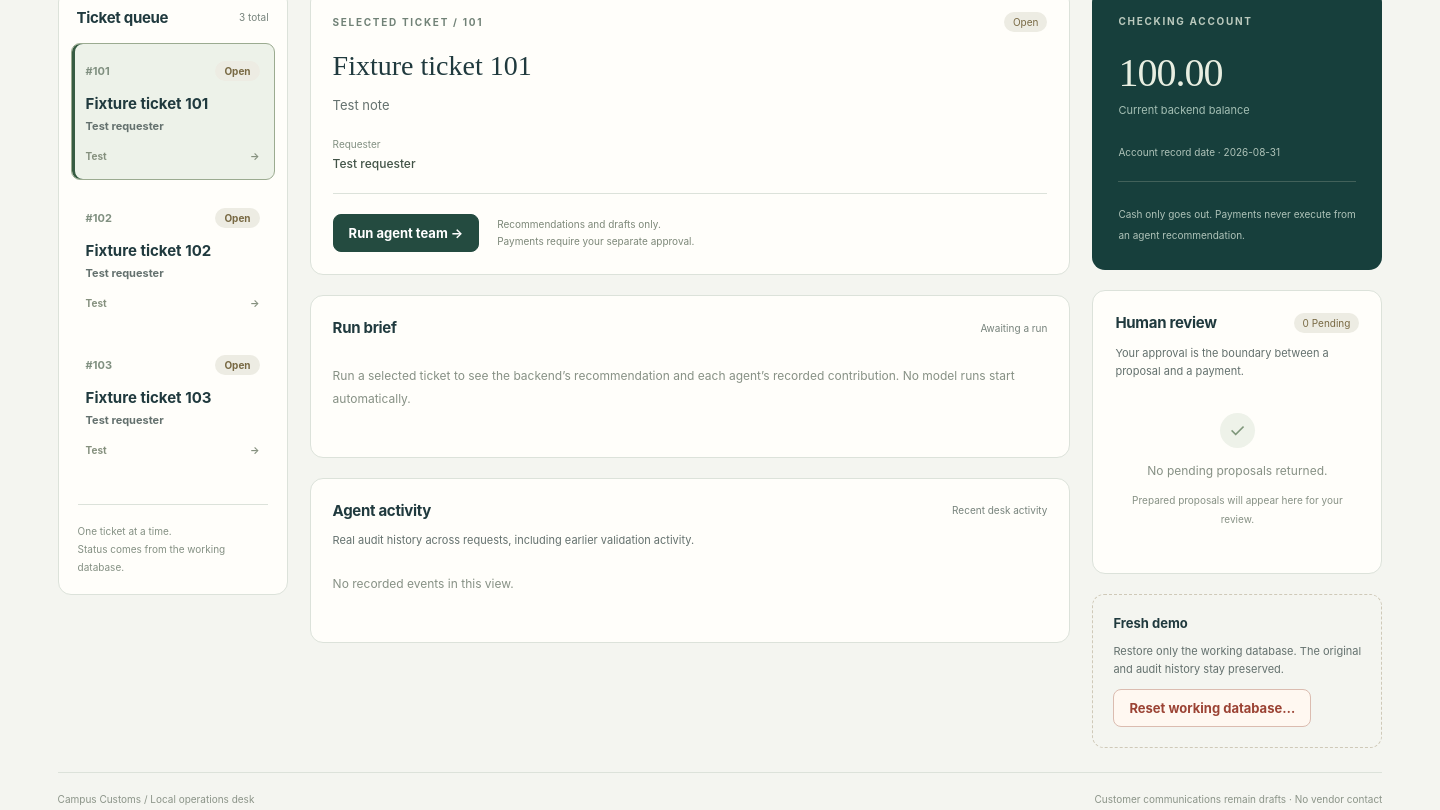
Scenario: operations desk › loads tickets and cash, selects a ticket, runs only on human click and displays actual summary/events
This screenshot has width=1440, height=810.
(page scrolled)
Expected: the text "100.00" is shown, left=1118, top=50, right=1222, bottom=95
Click the button "#103 open Fixture ticket 103 Test requester test →": (173,406) left=71, top=337, right=275, bottom=474
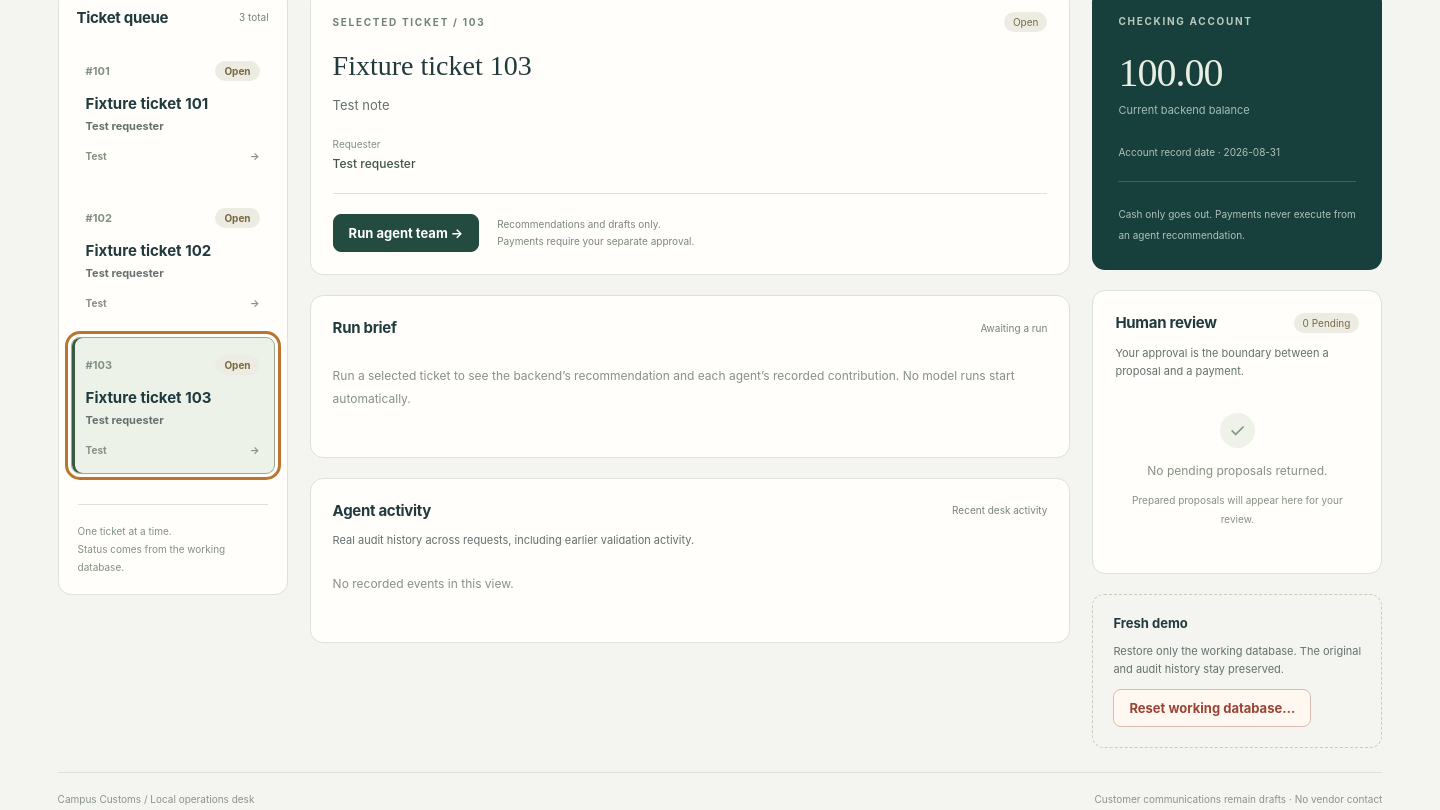
Click the button "Run agent team →": (406,233) left=333, top=214, right=479, bottom=252
(page scrolled)
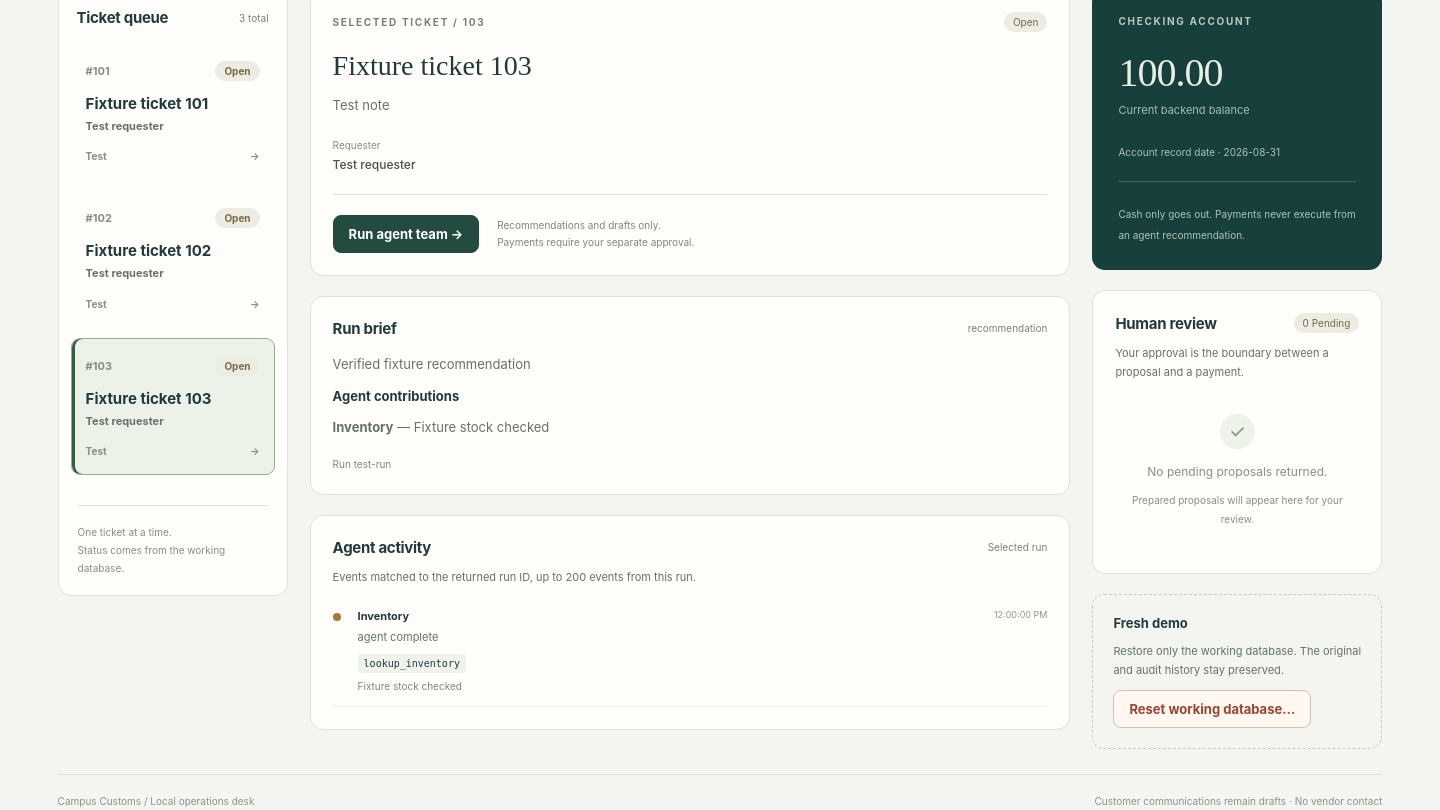
Result: the text "Verified fixture recommendation" is shown at left=333, top=356, right=531, bottom=372
Result: the text "lookup_inventory" is shown at left=358, top=654, right=466, bottom=673
Result: the text "Inventory — Fixture stock checked" is shown at left=333, top=419, right=549, bottom=435
